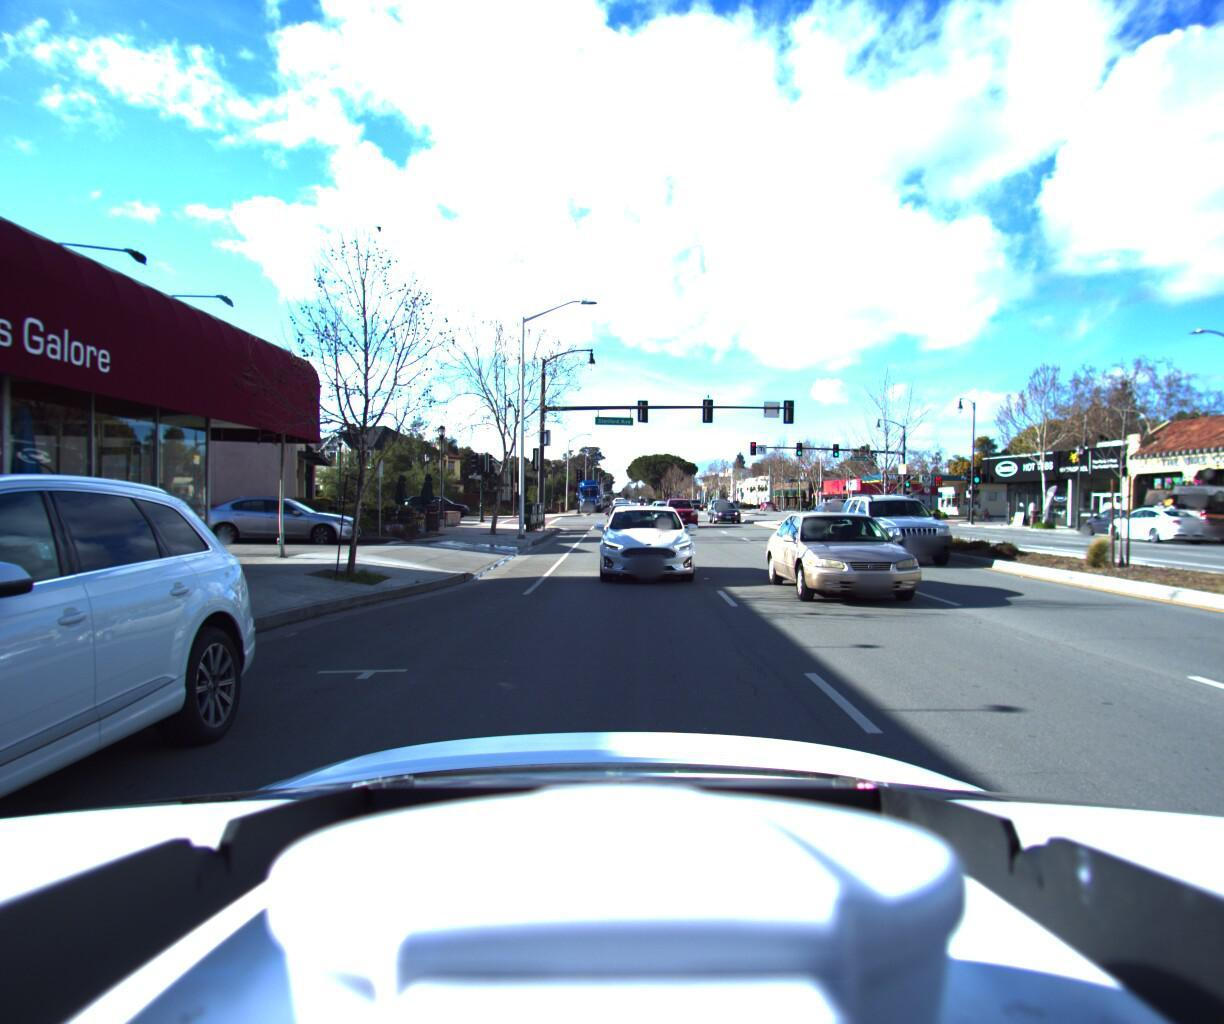bicycle: (975, 510, 991, 525)
car: (0, 402, 282, 1024), (770, 492, 981, 616), (845, 489, 993, 574), (186, 495, 366, 550), (596, 501, 698, 586), (1126, 473, 1224, 543), (1087, 502, 1197, 544), (397, 495, 473, 521), (663, 497, 705, 529), (805, 501, 858, 526), (708, 497, 748, 525)
